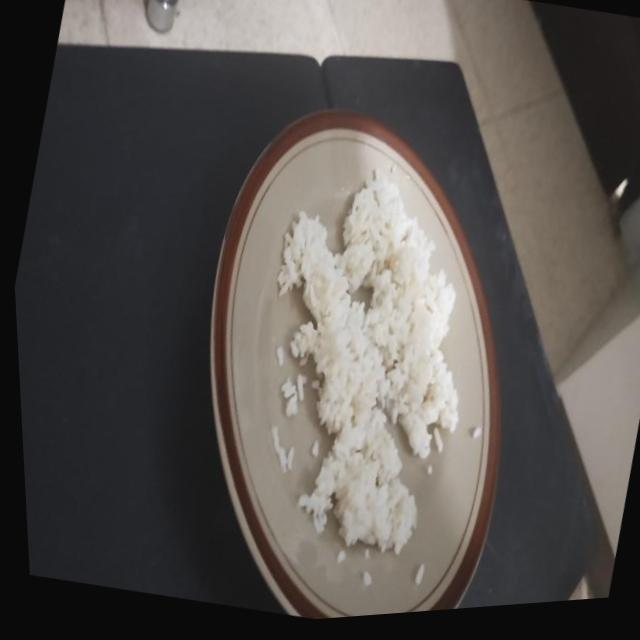nasi_putih: (278, 168, 458, 554)
